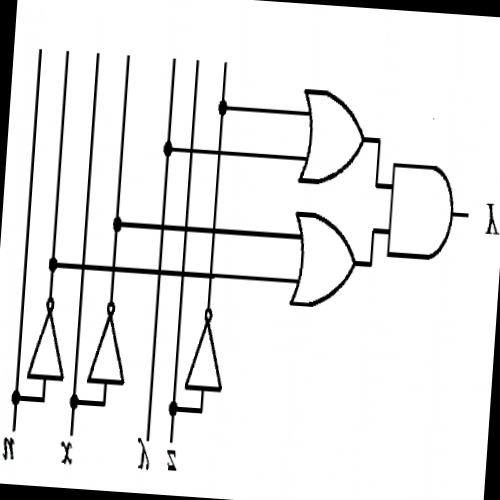and: (377, 144, 464, 280)
not: (78, 286, 136, 400), (177, 296, 234, 403), (22, 287, 74, 394)
or: (287, 77, 376, 200), (278, 202, 366, 326)
